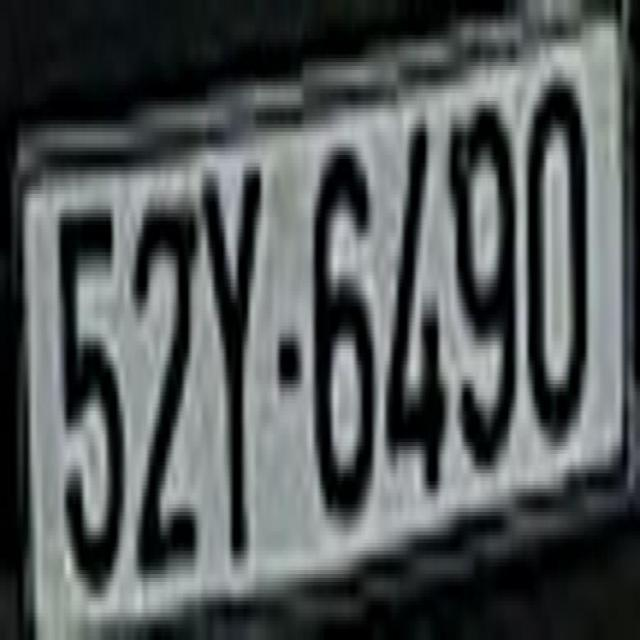0: (526, 78, 591, 454)
2: (132, 182, 196, 570)
4: (382, 116, 448, 508)
5: (57, 194, 126, 597)
6: (313, 136, 377, 539)
9: (454, 109, 515, 477)
Y: (201, 159, 264, 578)
